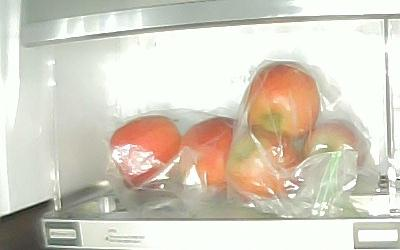apple_vinyl: (242, 61, 319, 142), (226, 127, 305, 198), (109, 116, 181, 189), (178, 116, 238, 194), (300, 121, 365, 171)
